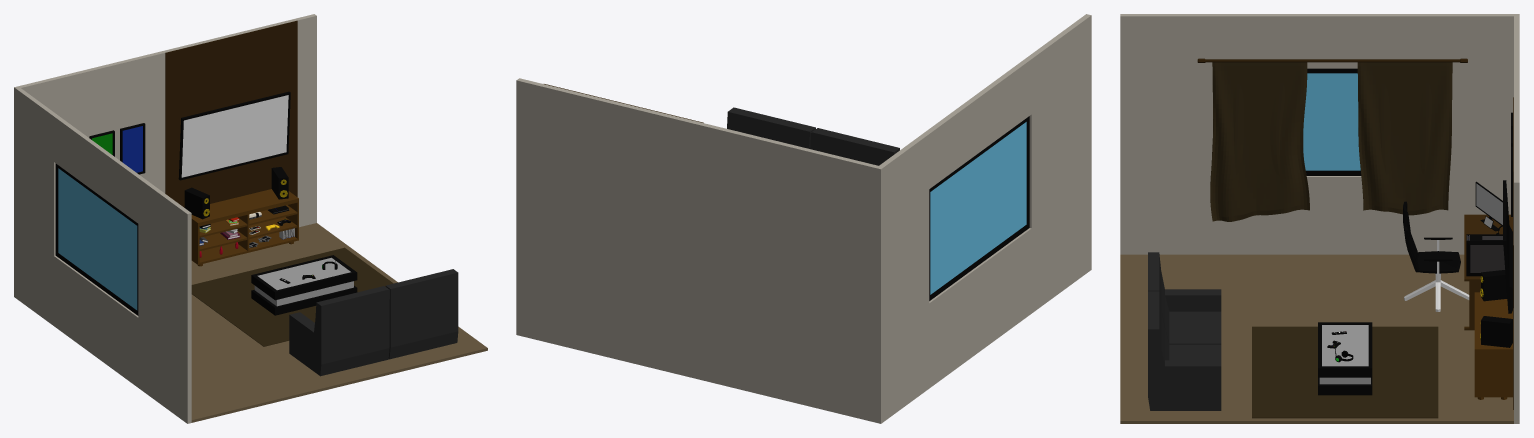
Rendered from room.fbx.
The picture shows the model from 3 angles, left to right: view 1: azimuth 30°, elevation 25°; view 2: azimuth 150°, elevation 25°; view 3: azimuth 270°, elevation 25°; orthographic projection. The views are drawn at different scales.
Parts seen in each view (by area): view 1: Room, Sofa, Window, TV, Carpet2, TV_Stand, Coffeetable, WallFrame, LEFTSpeaker, RIGHTSpeaker; view 2: Room, Window, Sofa; view 3: Room, LEFTCurtain, RIGHTCurtain, Carpet2, Sofa, Window, Coffeetable, TV_Stand, Chair, Computer, Desk, CurtainRod (+4 smaller).
Part boxes in pixels (left/top/right/bottom): Room: left=14, top=14, right=487, bottom=423; Sofa: left=289, top=269, right=458, bottom=376; Window: left=55, top=163, right=138, bottom=315; TV: left=178, top=91, right=290, bottom=180; Carpet2: left=191, top=247, right=393, bottom=346; TV_Stand: left=191, top=189, right=298, bottom=266; Coffeetable: left=251, top=255, right=357, bottom=315; WallFrame: left=89, top=123, right=145, bottom=174; LEFTSpeaker: left=184, top=187, right=209, bottom=219; RIGHTSpeaker: left=271, top=167, right=288, bottom=199; Room: left=516, top=14, right=1091, bottom=423; Window: left=929, top=116, right=1029, bottom=300; Sofa: left=727, top=107, right=899, bottom=165; Room: left=1120, top=14, right=1519, bottom=423; LEFTCurtain: left=1210, top=62, right=1309, bottom=221; RIGHTCurtain: left=1357, top=62, right=1452, bottom=215; Carpet2: left=1252, top=326, right=1438, bottom=418; Sofa: left=1148, top=252, right=1221, bottom=410; Window: left=1303, top=68, right=1361, bottom=175; Coffeetable: left=1318, top=322, right=1372, bottom=395; TV_Stand: left=1474, top=292, right=1512, bottom=399; Chair: left=1403, top=201, right=1469, bottom=311; Computer: left=1466, top=234, right=1504, bottom=276; Desk: left=1464, top=214, right=1512, bottom=330; CurtainRod: left=1197, top=58, right=1467, bottom=62.
Size of the model in its own units: 494 by 329 by 494.
